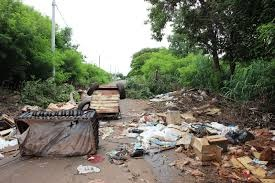rubble: (139, 91, 275, 167)
